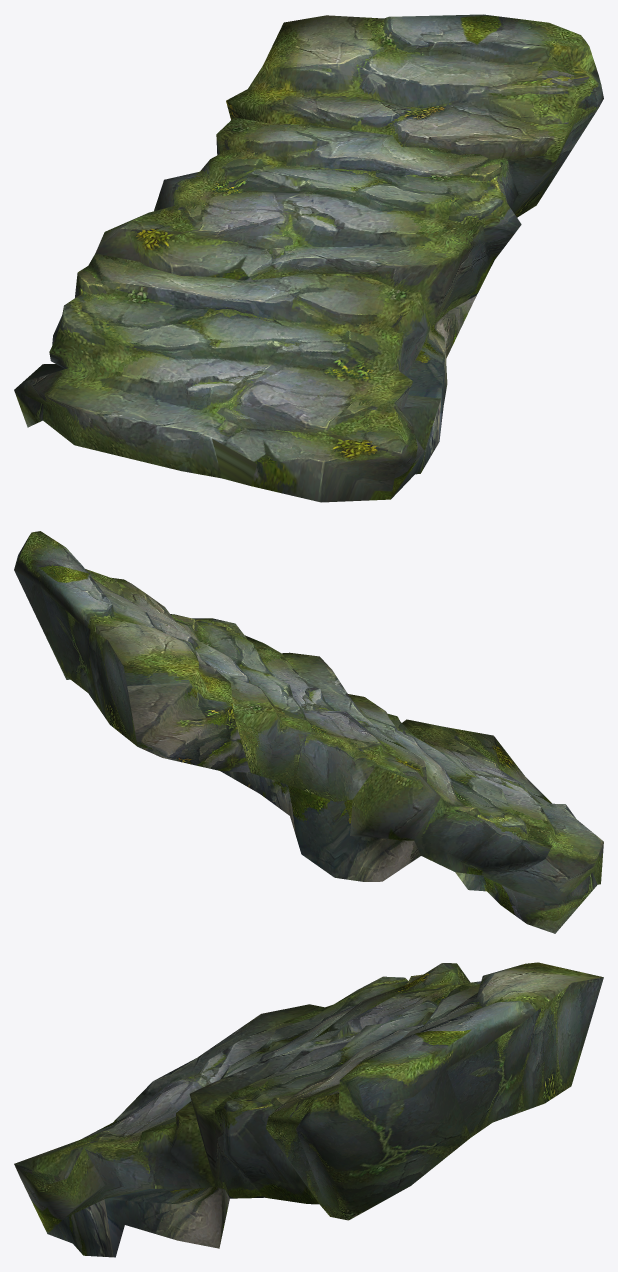
3 renders of one model, top to bottom at view 1: azimuth 30°, elevation 25°; view 2: azimuth 150°, elevation 25°; view 3: azimuth 270°, elevation 25°, orthographic. The views are drawn at different scales.
Parts seen in each view (by area): view 1: st_001; view 2: st_001; view 3: st_001.
Part boxes in pixels (left/top/right/bottom): st_001: left=14, top=14, right=603, bottom=502; st_001: left=14, top=531, right=603, bottom=933; st_001: left=14, top=962, right=603, bottom=1257.
Bounding box in the file's own units: 580 × 285 × 435.
